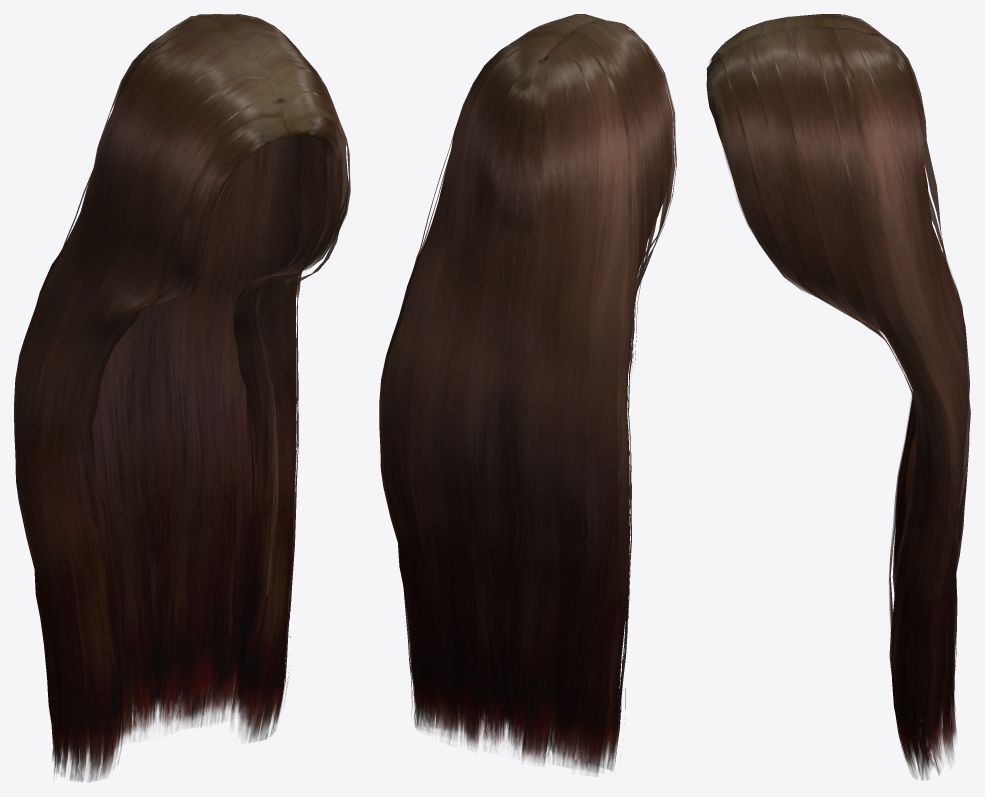
File: long.glb
3 renders of one model, left to right at view 1: azimuth 30°, elevation 25°; view 2: azimuth 150°, elevation 25°; view 3: azimuth 270°, elevation 25°, orthographic. The views are drawn at different scales.
Visible parts, largest first — view 1: hair_long; view 2: hair_long; view 3: hair_long.
Part boxes in pixels (left/top/right/bottom): hair_long: left=14, top=14, right=350, bottom=782; hair_long: left=379, top=14, right=676, bottom=776; hair_long: left=706, top=14, right=970, bottom=780.
Size of the model in its own units: 0.273 by 0.7199 by 0.2417.
Materials: 1 (1 with a texture image).
